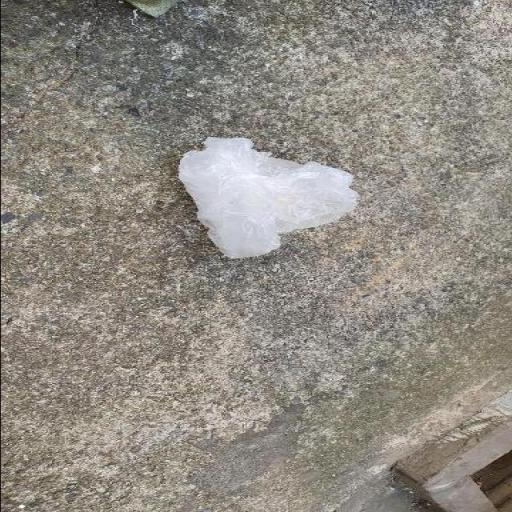plastic-bag: (172, 136, 360, 262)
